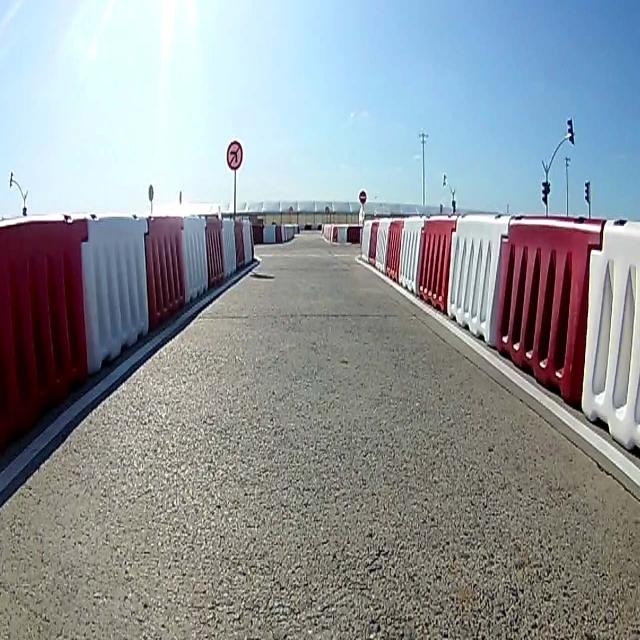girisyok: (359, 188, 367, 202)
soladonulmez: (227, 139, 244, 170)
